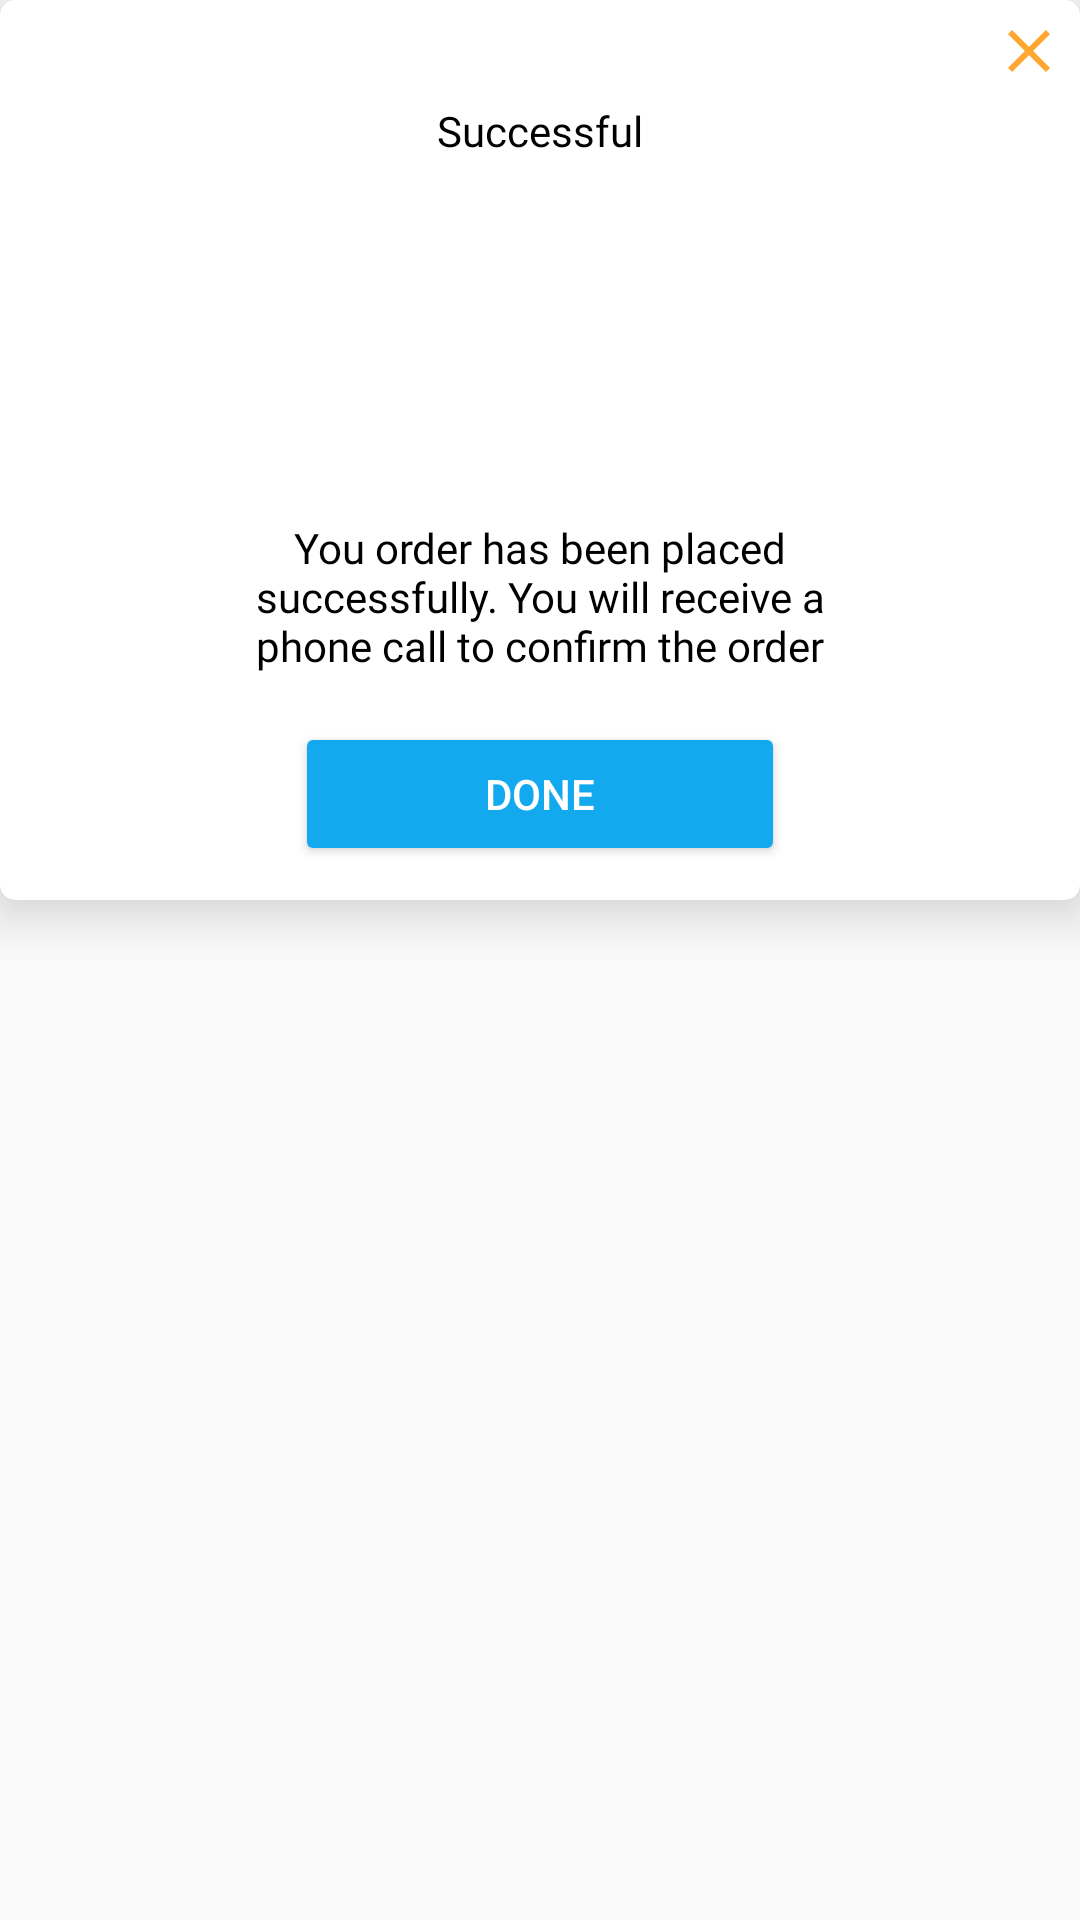

Locate icon controls on the screen. Image size 1080x1920, boxes as bbox=[x1, y1, x2, y2].
close: bbox=[1008, 30, 1050, 72]
